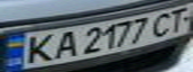1: (100, 21, 121, 51)
2: (78, 25, 106, 55)
7: (127, 15, 157, 44), (115, 18, 136, 47)
A: (48, 28, 81, 61)
C: (148, 9, 178, 38)
K: (15, 31, 63, 64)
T: (163, 6, 193, 34)
